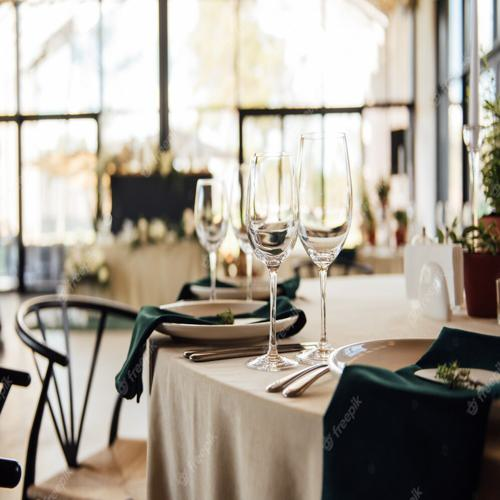copa: (247, 152, 302, 371), (297, 133, 348, 364), (193, 179, 226, 302)
